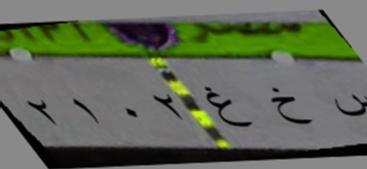0: (113, 101, 148, 127)
1: (69, 89, 104, 134)
2: (24, 94, 62, 134), (150, 91, 184, 131)
ghayn: (204, 77, 254, 134)
khaa: (262, 86, 314, 132)
